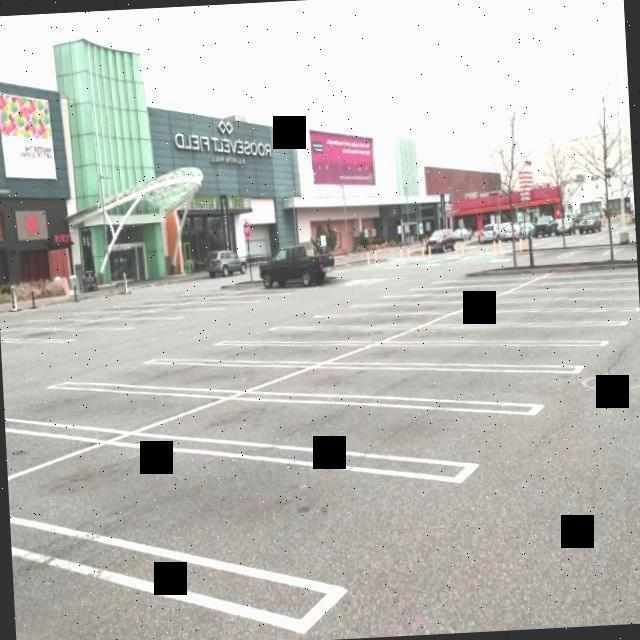space-empty: (8, 433, 475, 634), (112, 386, 548, 487), (225, 357, 580, 422), (5, 381, 242, 446), (51, 358, 317, 401), (311, 340, 609, 377), (144, 339, 374, 369)
